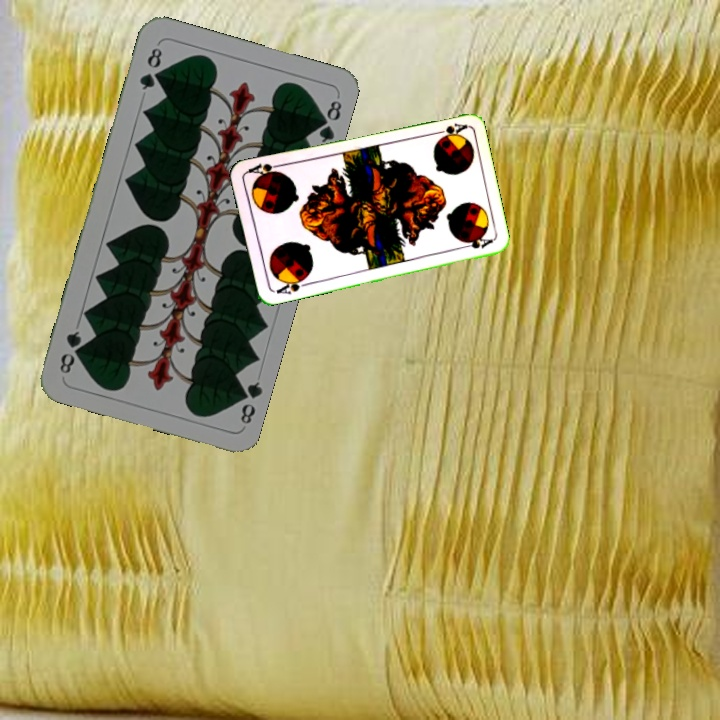G8: (232, 377, 264, 427), (135, 43, 165, 93)
SA: (270, 273, 310, 297), (428, 119, 469, 140)
